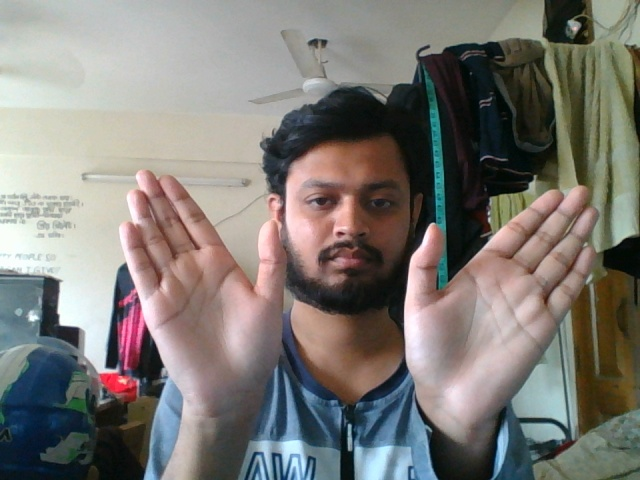naa: (114, 167, 607, 407)
